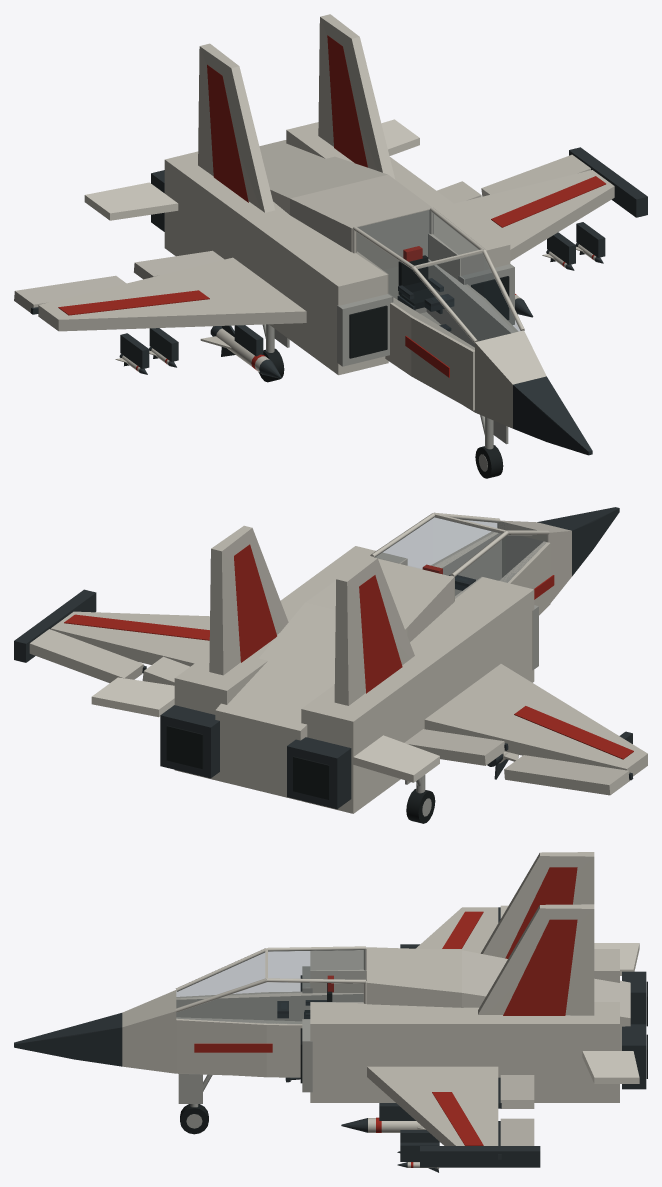
The picture shows the model from 3 angles, top to bottom: view 1: azimuth 30°, elevation 25°; view 2: azimuth 150°, elevation 25°; view 3: azimuth 270°, elevation 25°; orthographic projection. The views are drawn at different scales.
Visible parts, largest first — view 1: jet-b-painted, jet-b-glazing, elevator-left-fleet-armor, crew-chair-pilot-painted, aileron-left-painted, aileron-right-painted, breakaway-1-painted, store-left-large-painted, flap-left-painted, elevator-right-fleet-armor, gear-wheel-nose-0-0-painted; view 2: jet-b-painted, jet-b-glazing, aileron-left-painted, aileron-right-painted, elevator-left-fleet-armor, elevator-right-fleet-armor, flap-left-painted, breakaway-1-painted, flap-right-painted, gear-wheel-left-0-0-painted; view 3: jet-b-painted, jet-b-glazing, breakaway-1-painted, elevator-right-fleet-armor, flap-right-painted, aileron-right-painted, landing-gear-nose-painted, store-right-large-painted, gear-wheel-nose-0-0-painted, elevator-left-fleet-armor, crew-chair-pilot-painted.
Part boxes in pixels (x1,y1,x2,y2): jet-b-painted: (38, 14, 614, 455); jet-b-glazing: (356, 210, 520, 349); elevator-left-fleet-armor: (84, 182, 178, 220); crew-chair-pilot-painted: (397, 246, 454, 331); aileron-left-painted: (14, 275, 126, 314); aileron-right-painted: (481, 154, 590, 196); breakaway-1-painted: (569, 147, 647, 217); store-left-large-painted: (200, 325, 281, 378); flap-left-painted: (134, 250, 224, 279); elevator-right-fleet-armor: (381, 119, 419, 155); gear-wheel-nose-0-0-painted: (475, 445, 503, 478); jet-b-painted: (50, 507, 647, 813); jet-b-glazing: (375, 517, 546, 597); aileron-left-painted: (504, 755, 633, 795); aileron-right-painted: (29, 629, 146, 683); elevator-left-fleet-armor: (353, 735, 439, 782); elevator-right-fleet-armor: (91, 677, 174, 717); flap-left-painted: (404, 729, 508, 765); breakaway-1-painted: (14, 589, 96, 662); flap-right-painted: (142, 656, 189, 685); gear-wheel-left-0-0-painted: (406, 789, 435, 823); jet-b-painted: (14, 852, 647, 1161); jet-b-glazing: (176, 949, 365, 1023); breakaway-1-painted: (420, 1146, 540, 1167); elevator-right-fleet-armor: (582, 1051, 639, 1083); flap-right-painted: (498, 1075, 534, 1108); aileron-right-painted: (498, 1118, 534, 1159); landing-gear-nose-painted: (178, 1074, 212, 1107); store-right-large-painted: (341, 1117, 440, 1142); gear-wheel-nose-0-0-painted: (180, 1104, 208, 1134); elevator-left-fleet-armor: (594, 943, 639, 975); crew-chair-pilot-painted: (277, 975, 333, 1018).
Size of the model in its own units: 64.59 by 30.39 by 69.47.
